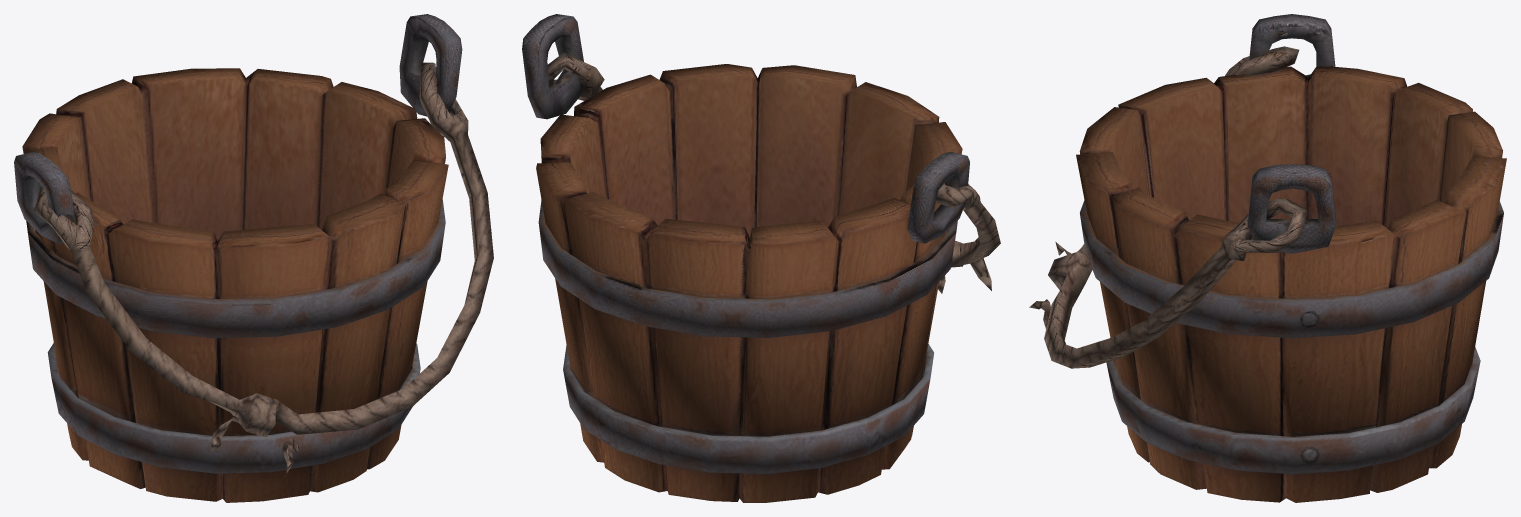
File: Wooden_Bucket_01.fbx
3 renders of one model, left to right at view 1: azimuth 30°, elevation 25°; view 2: azimuth 150°, elevation 25°; view 3: azimuth 270°, elevation 25°, orthographic.
Parts seen in each view (by area): view 1: Wooden_Bucket_01; view 2: Wooden_Bucket_01; view 3: Wooden_Bucket_01.
Part boxes in pixels (x1=…): Wooden_Bucket_01: x1=14, y1=14, x2=493, y2=502; Wooden_Bucket_01: x1=522, y1=14, x2=1000, y2=502; Wooden_Bucket_01: x1=1029, y1=14, x2=1506, y2=502.
Bounding box in the file's own units: 99.8 × 83.4 × 99.41.
